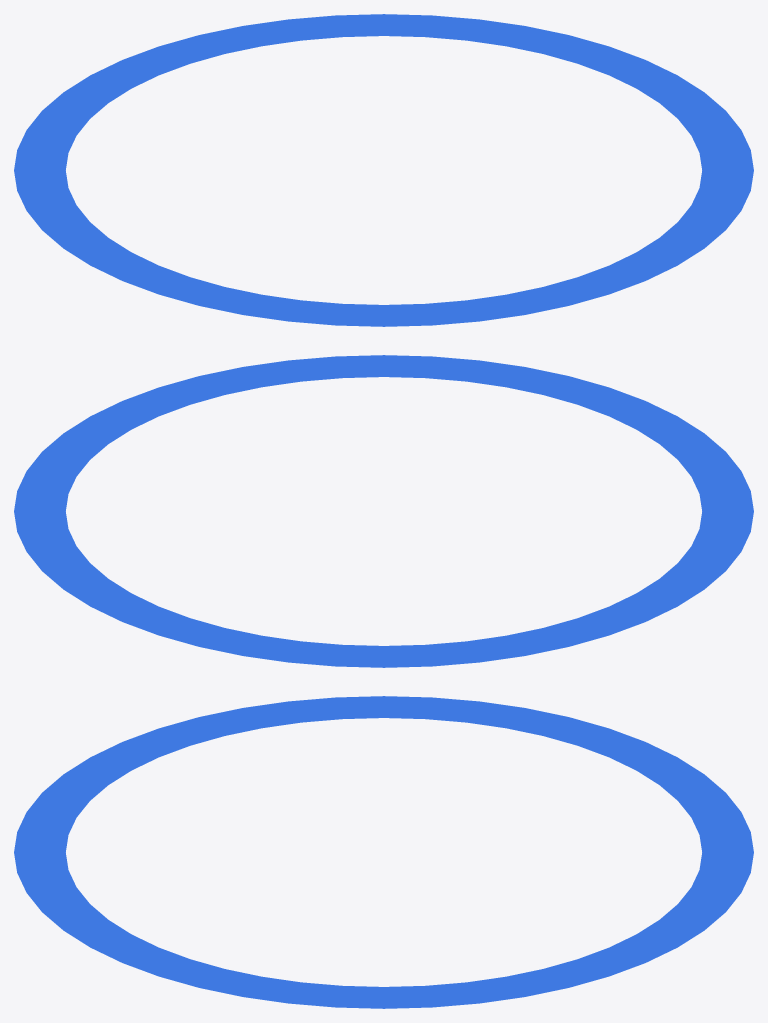
The model's file is rarity_magic.glb.
3 views of the same model, one above another, from view 1: azimuth 30°, elevation 25°; view 2: azimuth 150°, elevation 25°; view 3: azimuth 270°, elevation 25° (orthographic).
Parts seen in each view (by area): view 1: rarity_magic; view 2: rarity_magic; view 3: rarity_magic.
Part boxes in pixels (box(x1,y1,x2,y2)): rarity_magic: box(14, 14, 753, 326); rarity_magic: box(14, 355, 753, 667); rarity_magic: box(14, 696, 753, 1008).
Bounding box in the file's own units: 2 × 0 × 2.
Materials: 1 (1 with a texture image).
